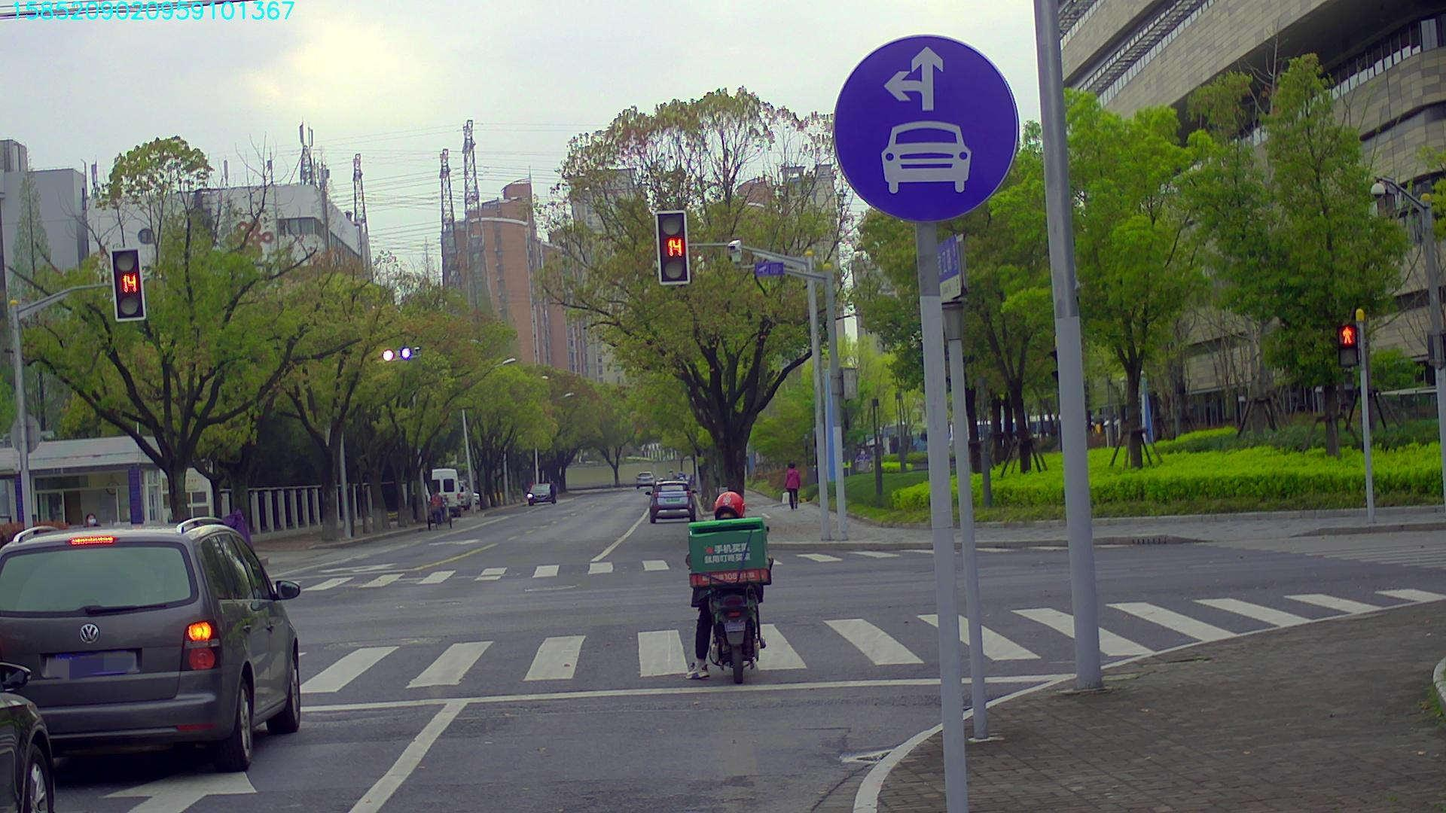red: (111, 249, 143, 319), (657, 212, 687, 282)
